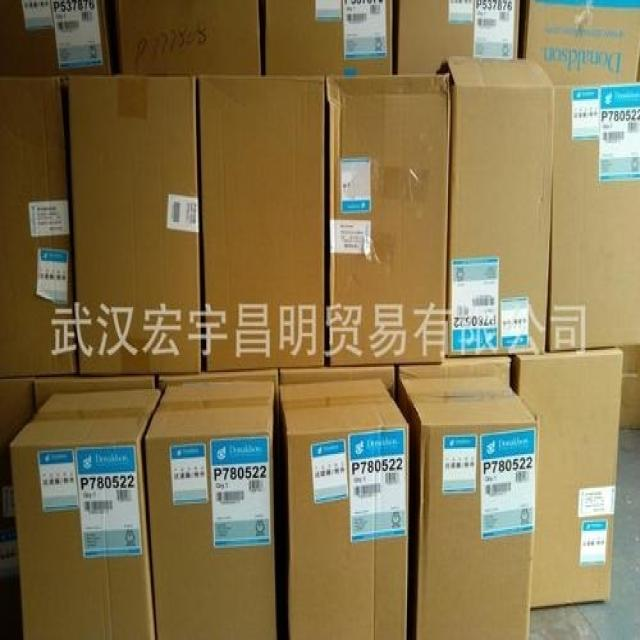box: (64, 72, 200, 375), (10, 388, 164, 638), (197, 74, 326, 370), (396, 375, 539, 638), (325, 71, 452, 365), (436, 55, 555, 357), (140, 382, 276, 638), (278, 377, 410, 638), (511, 347, 622, 611), (547, 85, 639, 351), (0, 75, 78, 375), (117, 1, 265, 76), (520, 0, 639, 84), (261, 0, 395, 74), (393, 2, 519, 75), (2, 373, 37, 606), (34, 373, 157, 417), (0, 3, 58, 77), (53, 2, 111, 74), (276, 366, 396, 398), (395, 356, 513, 388), (157, 367, 280, 389), (618, 345, 639, 430)
